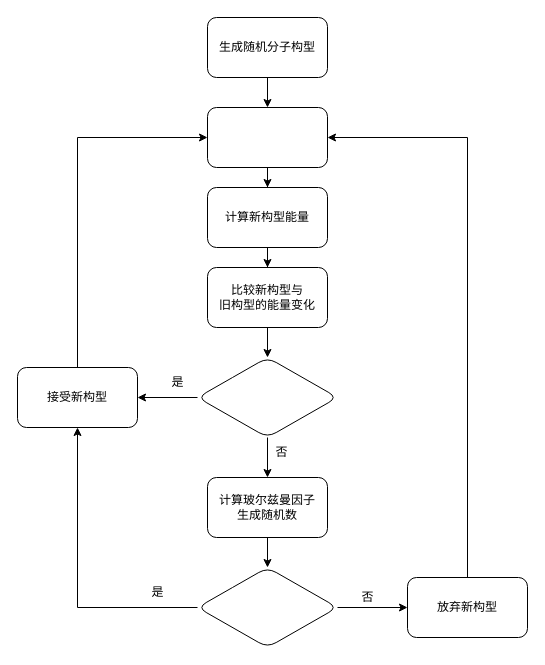
This 545x665 diagram has some shape labels left out. Each missing label, with the box of its shape:
新生成的构型能量低: (196, 356, 338, 438)
玻尔兹曼因子 小于随机数: (196, 566, 338, 648)
随机改变坐标 产生新的构型: (206, 106, 328, 168)
